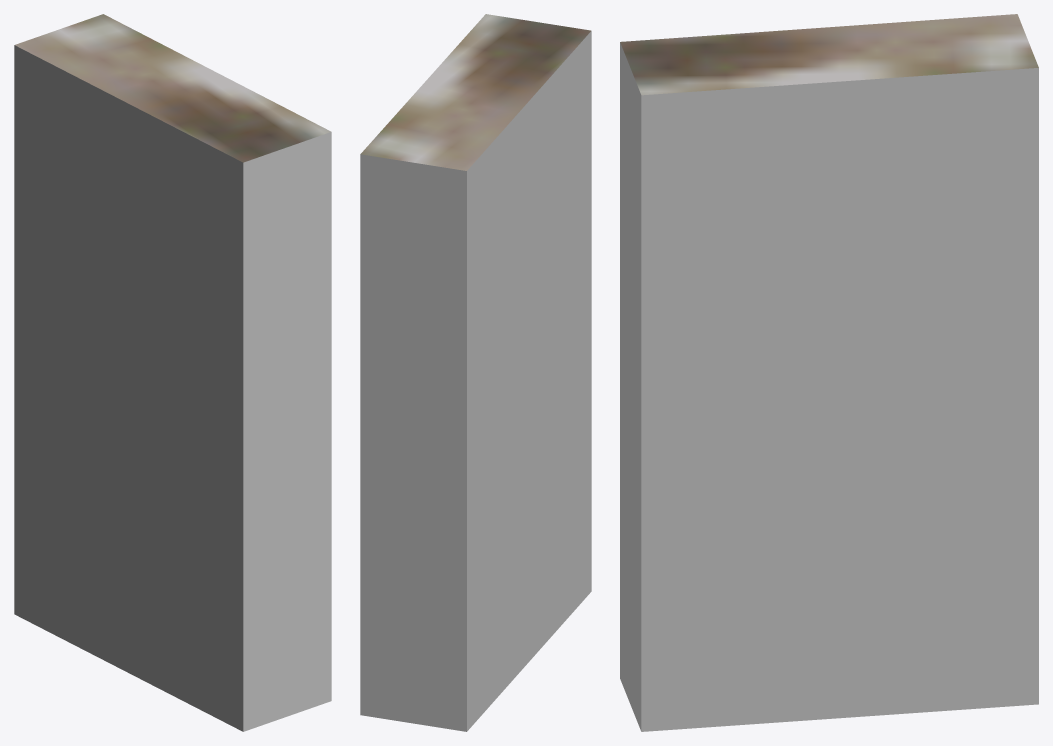
The model's file is DEBW_0010007THYW.gltf.
3 renders of one model, left to right at view 1: azimuth 30°, elevation 25°; view 2: azimuth 150°, elevation 25°; view 3: azimuth 270°, elevation 25°, orthographic. The views are drawn at different scales.
Parts seen in each view (by area): view 1: Z_UP; view 2: Z_UP; view 3: Z_UP.
Part boxes in pixels (x1=…): Z_UP: x1=14, y1=14, x2=331, y2=731; Z_UP: x1=360, y1=14, x2=591, y2=731; Z_UP: x1=620, y1=14, x2=1038, y2=731.
Size of the model in its own units: 1.98 by 7.23 by 4.31.
2 materials, 1 textured.
